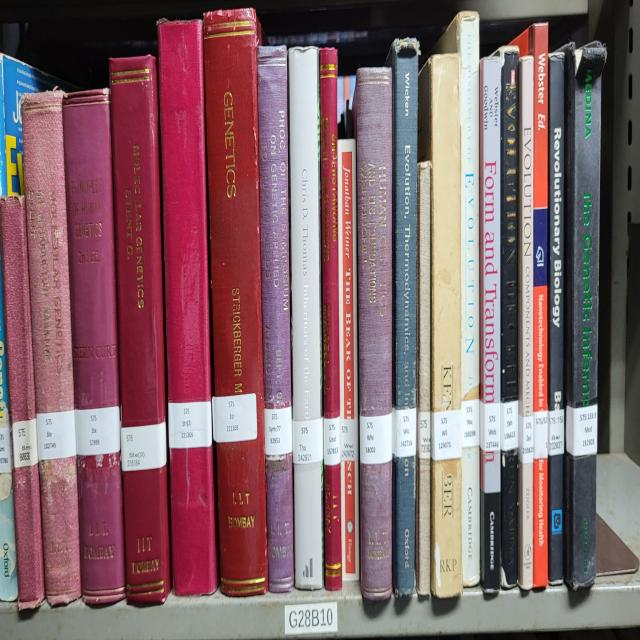Book: (204, 8, 268, 595), (158, 22, 218, 595), (110, 57, 170, 606), (62, 89, 125, 603), (22, 92, 81, 606), (435, 11, 480, 587), (419, 54, 462, 598), (564, 43, 606, 590), (354, 68, 392, 601), (514, 22, 549, 587), (258, 46, 294, 593), (289, 46, 324, 590), (0, 195, 45, 609), (389, 38, 419, 598), (320, 49, 342, 590), (498, 46, 519, 587), (480, 57, 501, 593), (338, 138, 360, 582), (548, 51, 565, 584), (518, 57, 534, 590), (415, 162, 431, 595)
Label: (212, 392, 258, 444), (120, 422, 166, 471), (75, 406, 120, 455), (169, 400, 212, 449), (36, 409, 76, 460), (566, 403, 598, 457), (360, 414, 392, 465), (431, 409, 461, 460), (292, 417, 324, 463), (264, 406, 292, 457), (12, 419, 38, 468), (392, 409, 416, 457), (480, 400, 500, 452), (501, 400, 519, 452), (461, 398, 480, 446), (324, 417, 341, 465), (340, 419, 358, 460), (534, 411, 549, 460), (519, 414, 534, 463), (549, 409, 564, 457), (418, 411, 431, 460)
